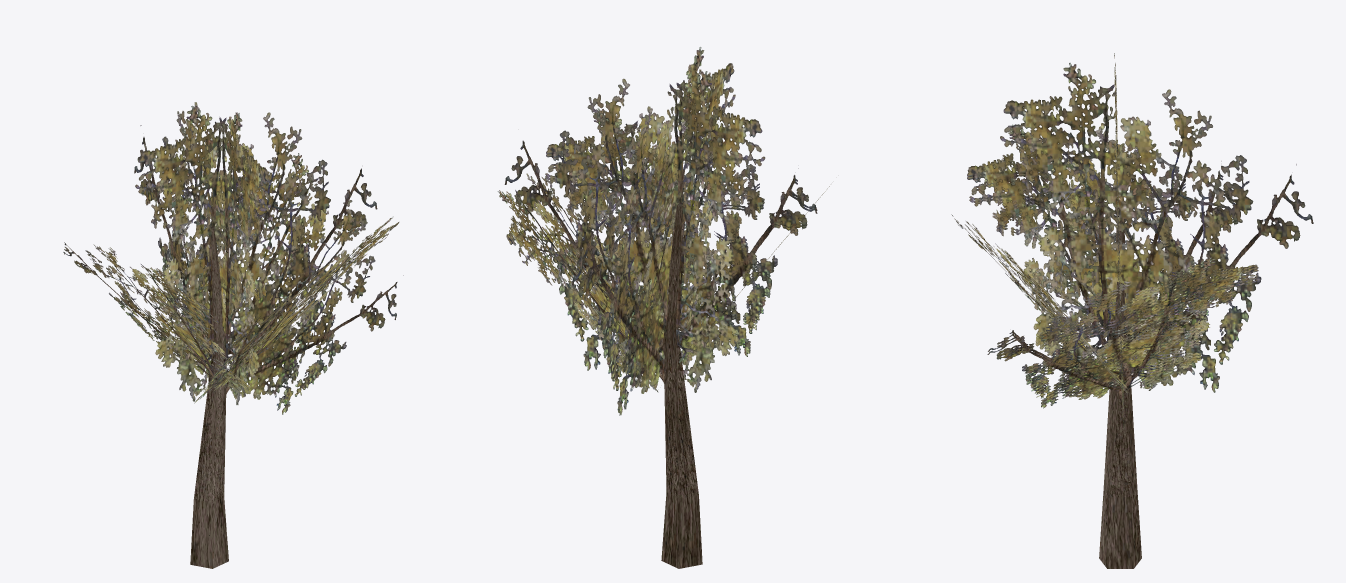
The model's file is mtns_shrb_yellowleaf1_l0.fbx.
3 views of the same model, side by side, from view 1: azimuth 30°, elevation 25°; view 2: azimuth 150°, elevation 25°; view 3: azimuth 270°, elevation 25° (orthographic). The views are drawn at different scales.
Parts seen in each view (by area): view 1: mesh_node; view 2: mesh_node; view 3: mesh_node.
Boxes of the visible parts, x1,y1,x2,y2 form: mesh_node: (63,102,403,568); mesh_node: (497,47,829,568); mesh_node: (951,53,1313,568).
Size of the model in its own units: 1.12 by 1.49 by 1.16.
